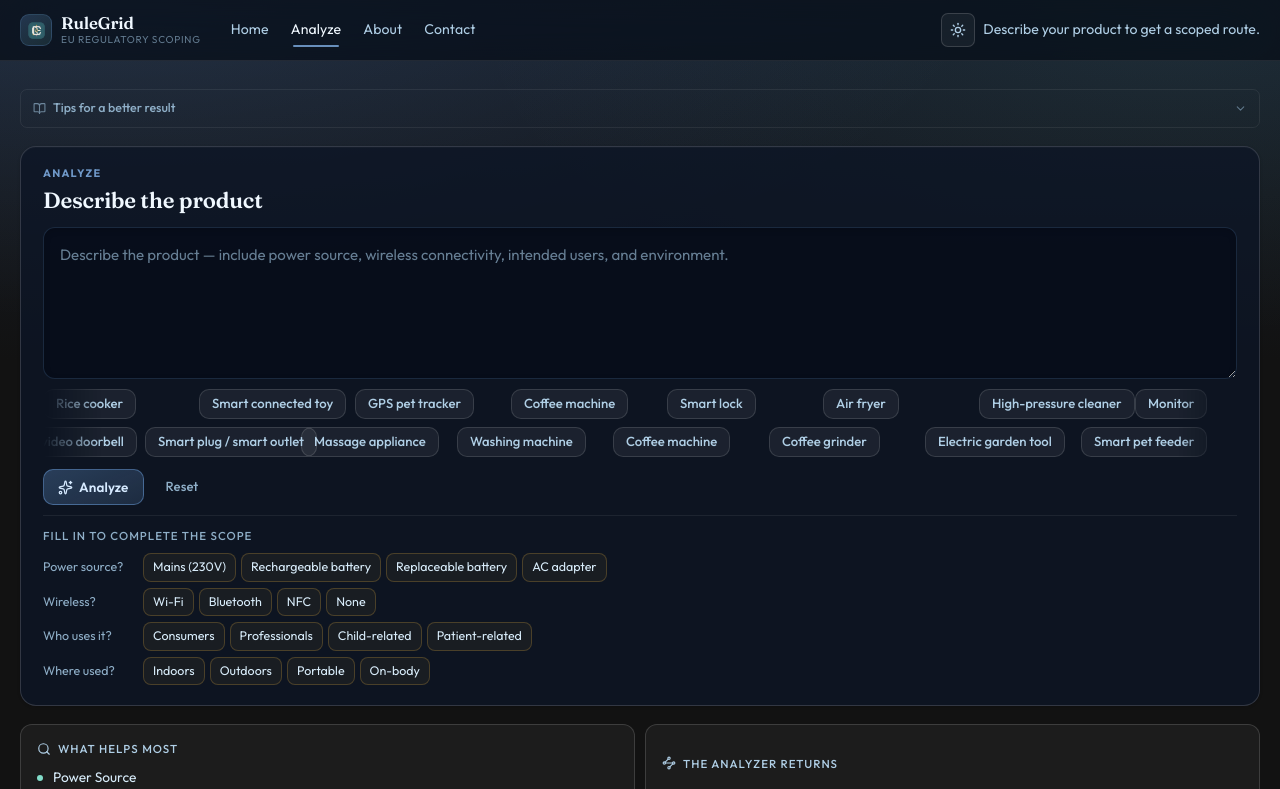
moves CRA and GDPR into parallel obligations
This screenshot has width=1280, height=789.
Replace the text in the text box named "describe your product" with "Connected smart lock with Wi-Fi, cloud account, user profiles, camera, and OTA updates" at (640, 303), box [43, 227, 1237, 379]
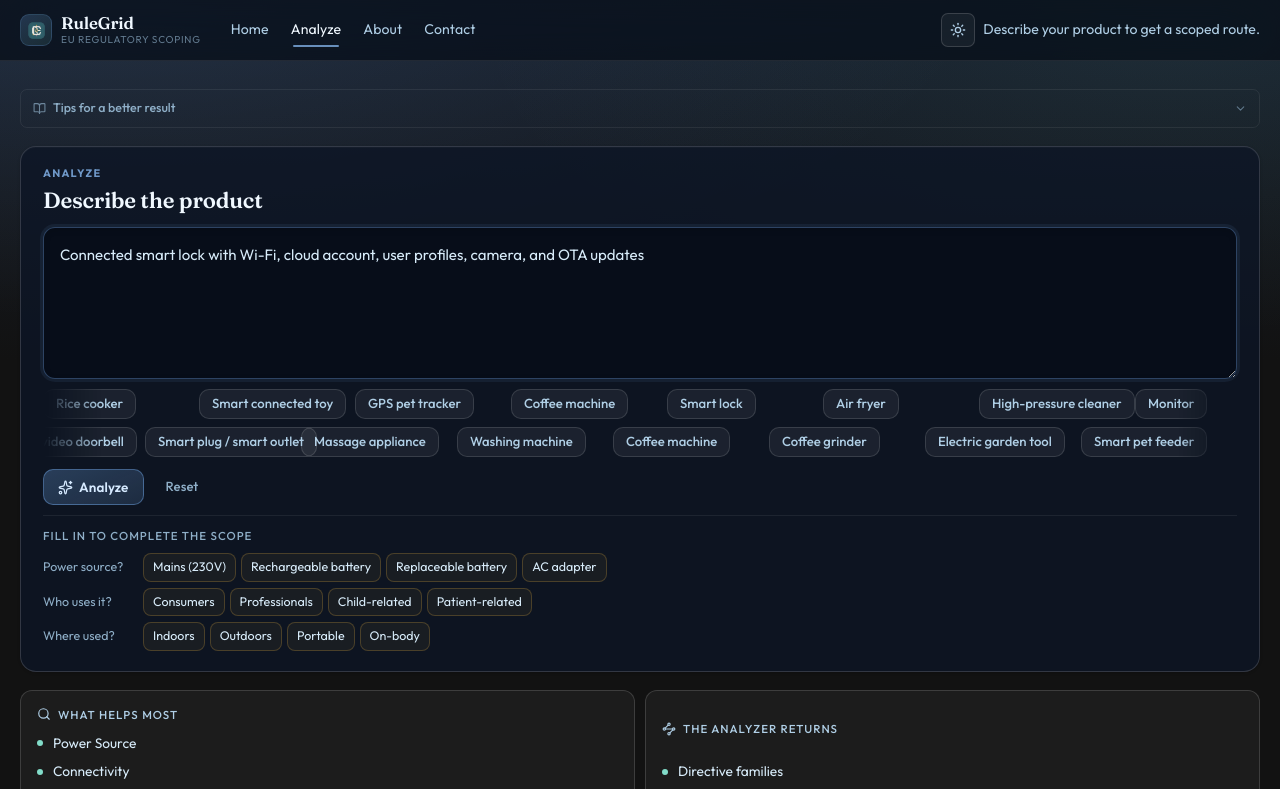
Click the button with aria-label "run analysis" at (93, 487), box [43, 469, 144, 505]
(page scrolled)
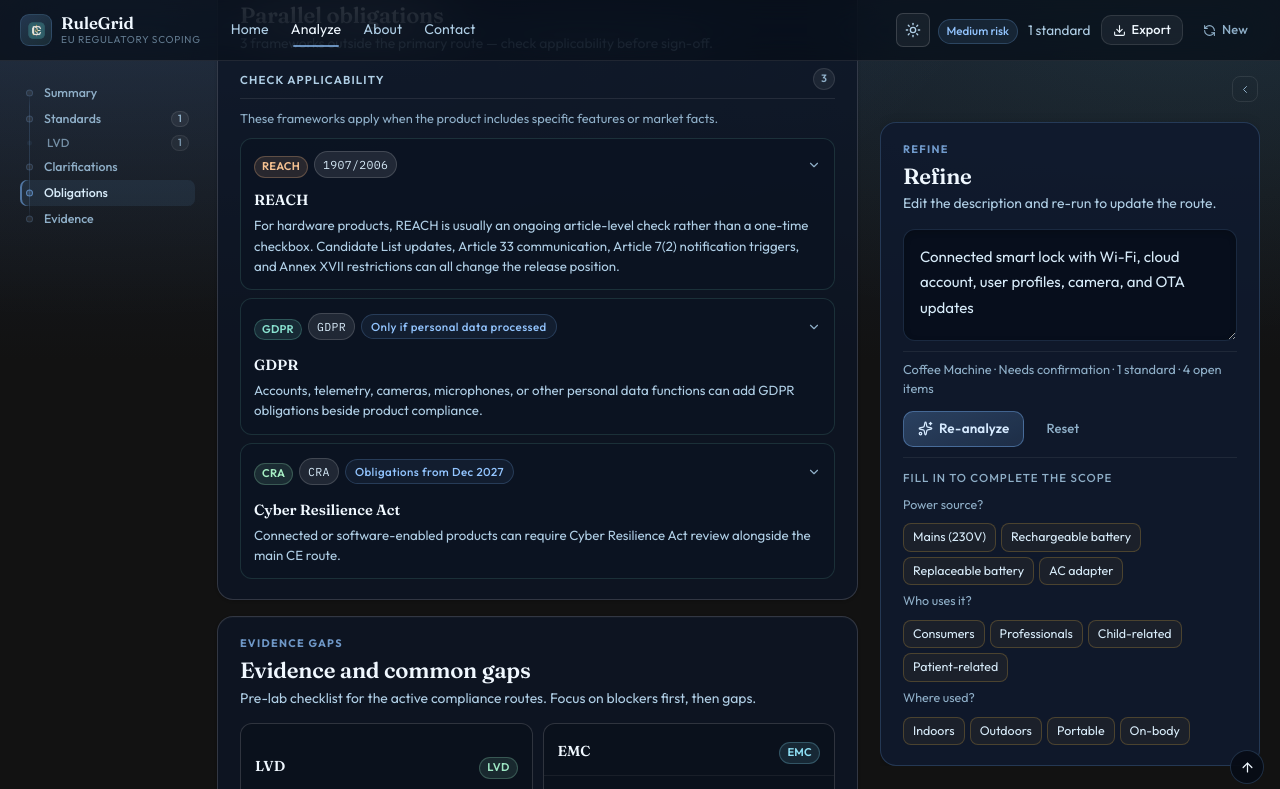
Now the heading "Cyber Resilience Act" is shown, box [254, 501, 400, 519]
Now the text "Connected or software-enabled products can require Cyber Resilience Act review" is shown, box [254, 527, 811, 563]
Now the text "accounts, telemetry, cameras, microphones, or other personal data functions can add gdpr obligations" is shown, box [254, 382, 795, 418]
